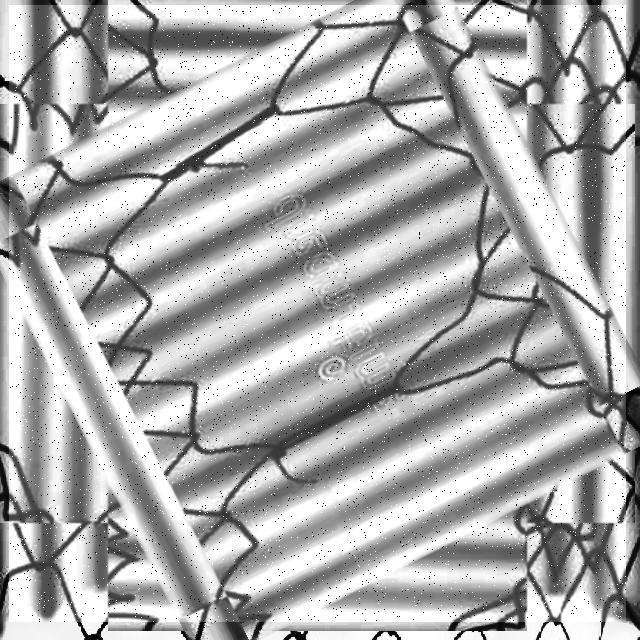anomaly-fence: (9, 5, 626, 622)
